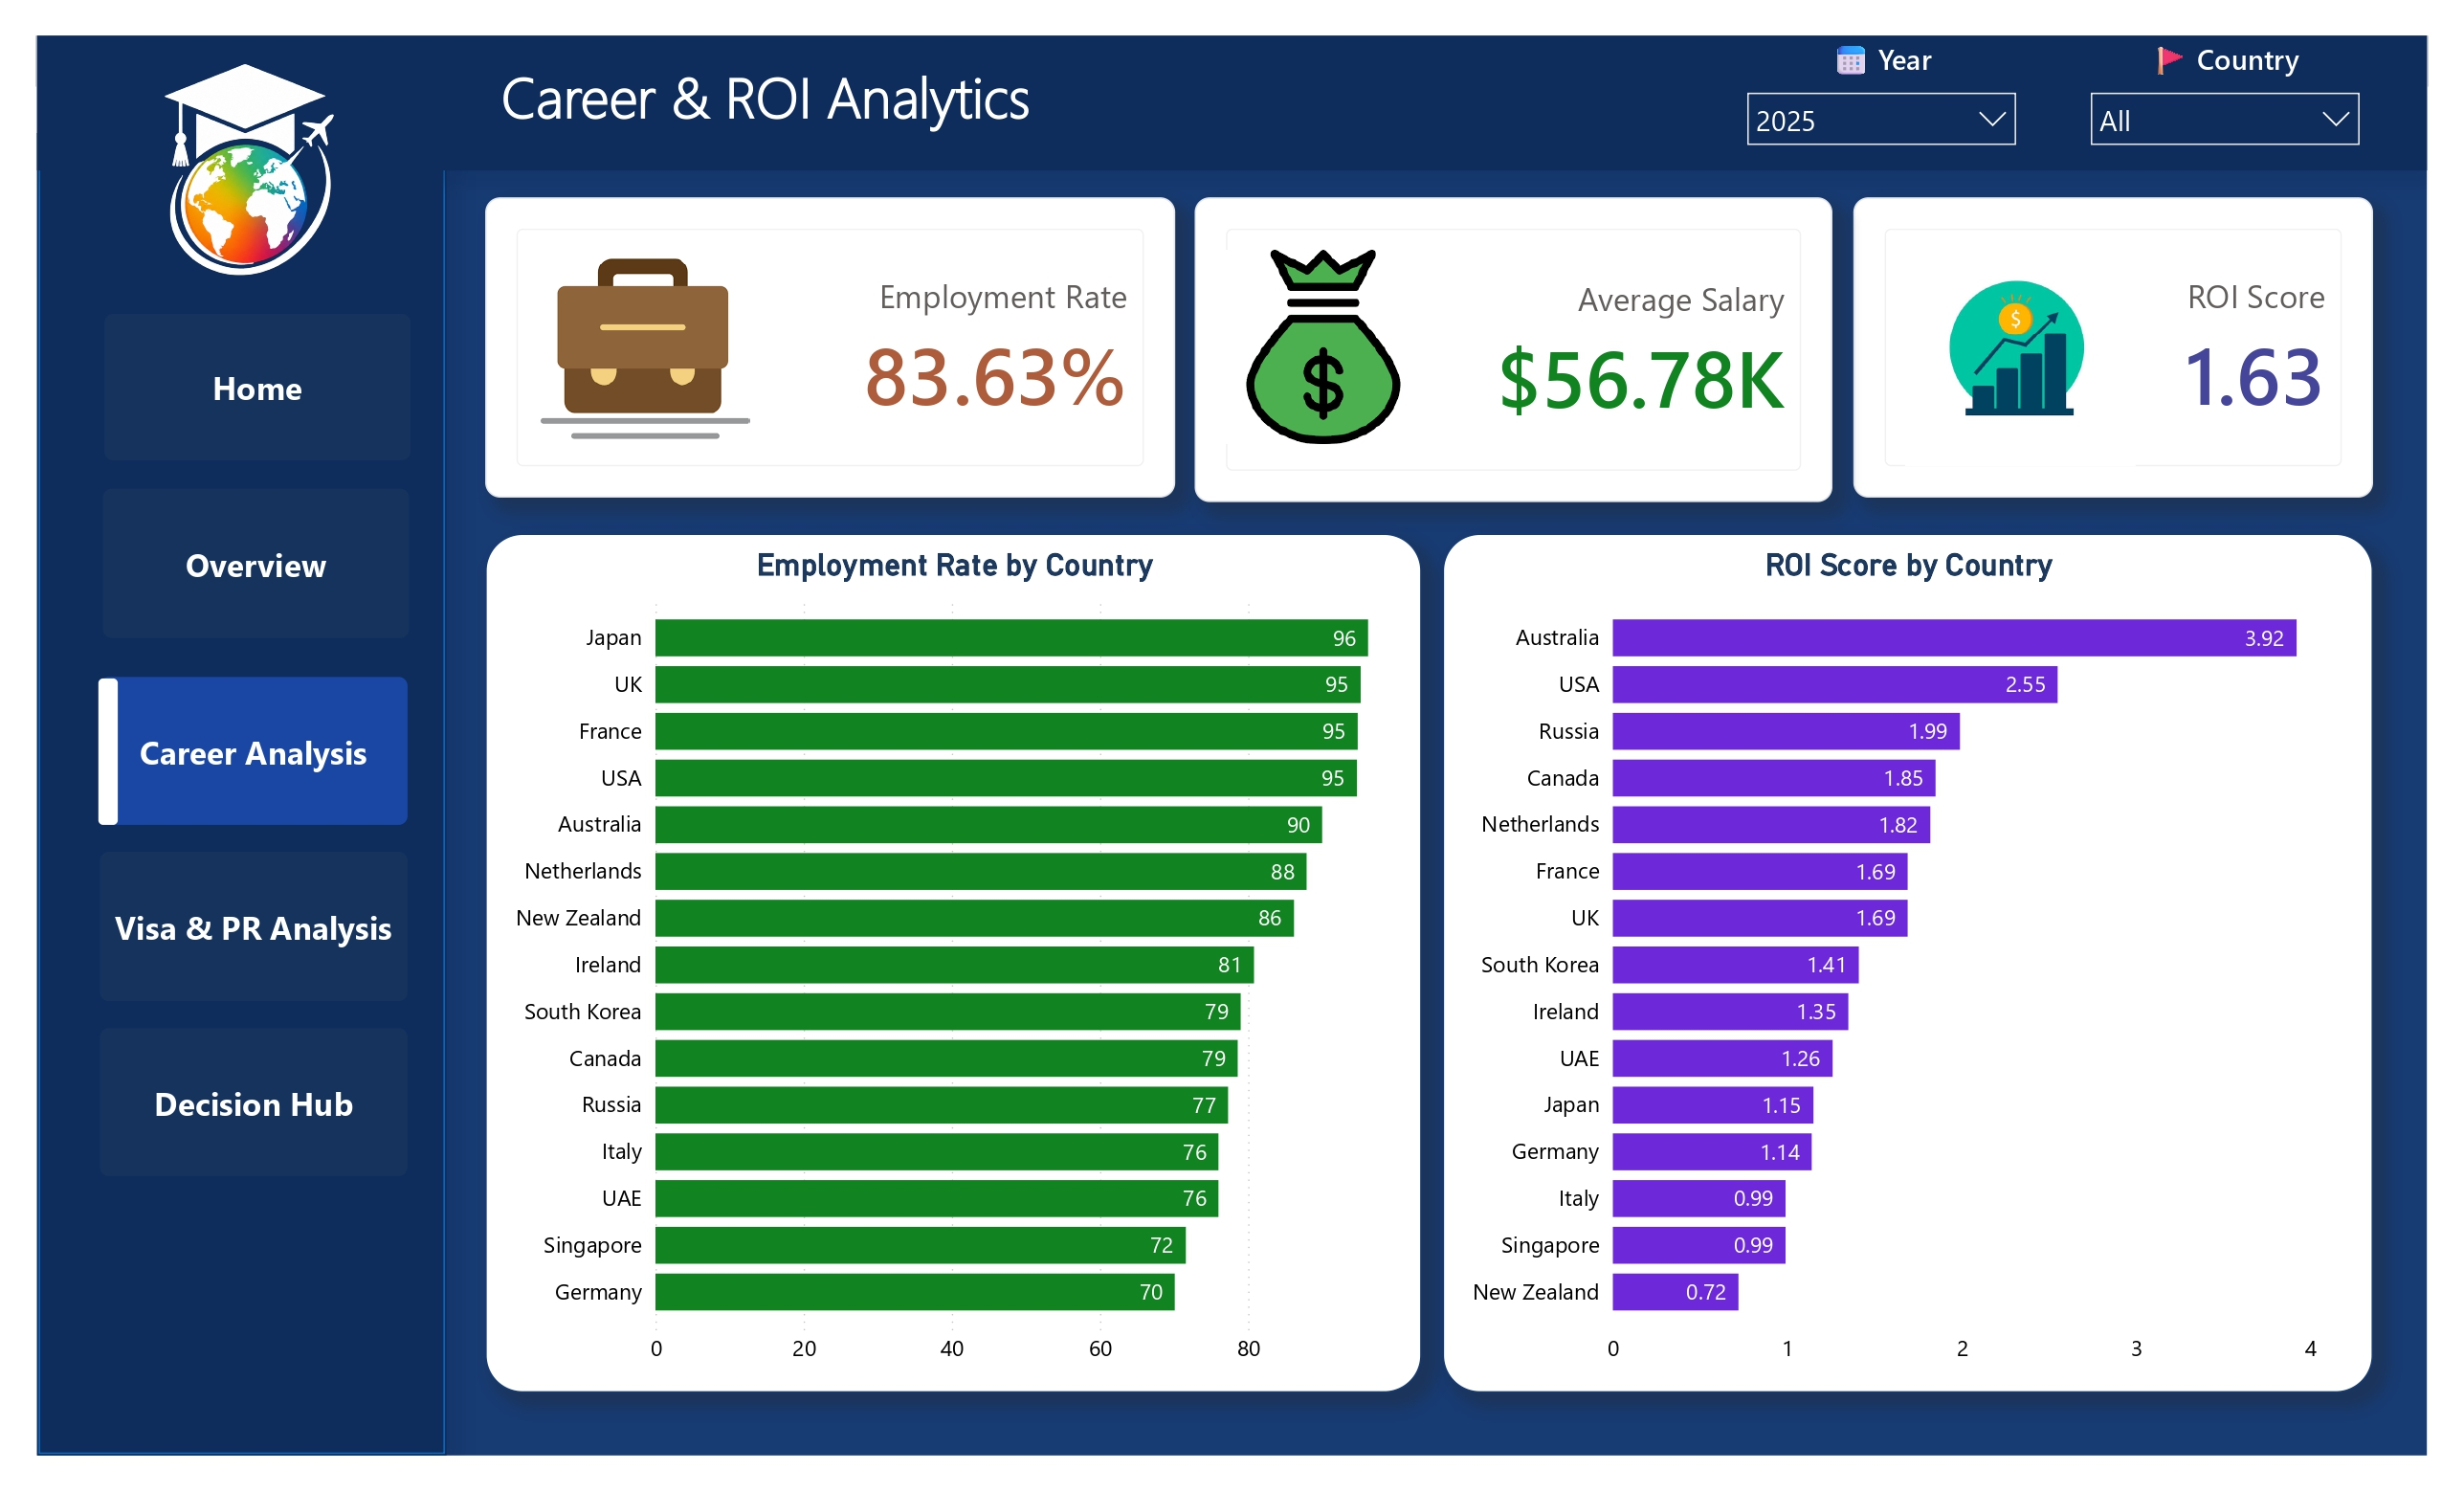

The dashboard page shown, as its layout file describes it:
{"tool":"powerbi","page":{"name":"Career Analysis","canvas":[1600,950],"ordinal":2},"visuals":[{"type":"cardVisual","fields":{"Data":["study_abroad_features_latest.Avg Employment Rate"]},"box":[300.2,108.3,461.7,201.4],"z":0,"group":"g5"},{"type":"actionButton","box":[45,186.4,205,98.3],"z":0,"group":"g6"},{"type":"clusteredBarChart","title":"Employment Rate by Country","fields":{"Y":["Avg(study_abroad_features_latest.Graduate_Employment_Rate)"],"Category":["study_abroad_features_latest.Country_Display"]},"box":[300,333.3,626.7,575],"z":0},{"type":"shape","box":[0,64.6,273.8,885.9],"z":1000,"group":"g4"},{"type":"cardVisual","fields":{"Data":["study_abroad_features_latest.Avg Graduate Salary"]},"box":[775.2,108.3,427.4,204.1],"z":1000,"group":"g3"},{"type":"actionButton","box":[43.4,303.1,205,100],"z":1000,"group":"g6"},{"type":"clusteredBarChart","title":"ROI  Score by Country","fields":{"Category":["study_abroad_features_latest.Country_Display"],"Y":["Avg(study_abroad_features_latest.ROI)"]},"box":[940.5,332.5,623.2,575.7],"z":1000},{"type":"group","id":"g1","title":"Group 3","box":[300.2,108.3,461.7,201.4],"z":2000},{"type":"actionButton","box":[41.7,428.9,205.7,99.8],"z":2000,"group":"g6"},{"type":"shape","box":[0,0,1600,90.1],"z":3000,"group":"g4"},{"type":"group","id":"g2","title":"Group 4","box":[1216,108.3,347.7,201.4],"z":3000},{"type":"cardVisual","fields":{"Data":["study_abroad_features_latest.Avg ROI"]},"box":[1216,108.3,347.7,201.4],"z":3000,"group":"g2"},{"type":"actionButton","box":[41.7,546.4,205.7,99.8],"z":3000,"group":"g6"},{"type":"group","id":"g3","title":"Group 5","box":[775.2,108.3,427.5,203.3],"z":4000},{"type":"actionButton","box":[41.7,663.9,205.7,99.8],"z":4000,"group":"g6"},{"type":"slicer","title":"📅 Country","fields":{"Values":["study_abroad_features_latest.Country"]},"box":[1433.3,3.3,148.3,83.3],"z":5000},{"type":"image","box":[329.2,139.3,156.1,140],"z":5001,"group":"g5"},{"type":"group","id":"g4","title":"Complete Nav","box":[0,0,1600,950.5],"z":6000},{"type":"image","box":[791,143.6,140.2,129.5],"z":6000,"group":"g3"},{"type":"image","box":[1251.4,132.4,153.8,157.7],"z":7000,"group":"g2"},{"type":"shape","box":[41.4,429.5,12.3,98.6],"z":7000},{"type":"group","id":"g5","title":"Group 6","box":[300.2,108.3,461.7,201.4],"z":7003,"group":"g1"},{"type":"slicer","title":"🚩 Country","fields":{"Values":["study_abroad_features_latest.Country"]},"box":[1365,3.3,200,80],"z":11000,"group":"g4"},{"type":"slicer","title":"📅 Year","fields":{"Values":["study_abroad_features_latest.Year"]},"box":[1135,3.3,200,80],"z":12000,"group":"g4"},{"type":"image","box":[26.6,0,224.2,180.5],"z":13000},{"type":"group","id":"g6","title":"Navigation Buttons","box":[41.7,186.4,208.3,577.3],"z":14000,"group":"g4"},{"type":"textbox","title":"Heading","box":[306.1,10.2,578.1,64.6],"z":14500,"group":"g4"}]}

Visuals, with their boxes on the page's 1600x950 design canvas (x1, y1, x2, y2). These are canvas units, not pixel positions in the 2464x1492 screenshot, which may show the page scaled, cropped or inside an application window:
cardVisual - study_abroad_features_latest.Avg Employment Rate: 300/108/762/310
actionButton: 45/186/250/285
"Employment Rate by Country" clusteredBarChart: 300/333/927/908
shape: 0/65/274/950
cardVisual - study_abroad_features_latest.Avg Graduate Salary: 775/108/1203/312
actionButton: 43/303/248/403
"ROI  Score by Country" clusteredBarChart: 940/332/1564/908
"Group 3" group: 300/108/762/310
actionButton: 42/429/247/529
shape: 0/0/1600/90
"Group 4" group: 1216/108/1564/310
cardVisual - study_abroad_features_latest.Avg ROI: 1216/108/1564/310
actionButton: 42/546/247/646
"Group 5" group: 775/108/1203/312
actionButton: 42/664/247/764
"📅 Country" slicer: 1433/3/1582/87
image: 329/139/485/279
"Complete Nav" group: 0/0/1600/950
image: 791/144/931/273
image: 1251/132/1405/290
shape: 41/430/54/528
"Group 6" group: 300/108/762/310
"🚩 Country" slicer: 1365/3/1565/83
"📅 Year" slicer: 1135/3/1335/83
image: 27/0/251/180
"Navigation Buttons" group: 42/186/250/764
"Heading" textbox: 306/10/884/75
